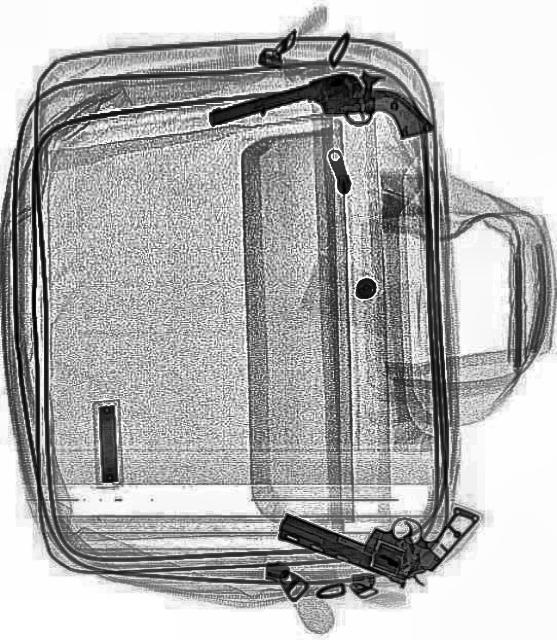Gun: (206, 49, 434, 189), (274, 449, 480, 601)
